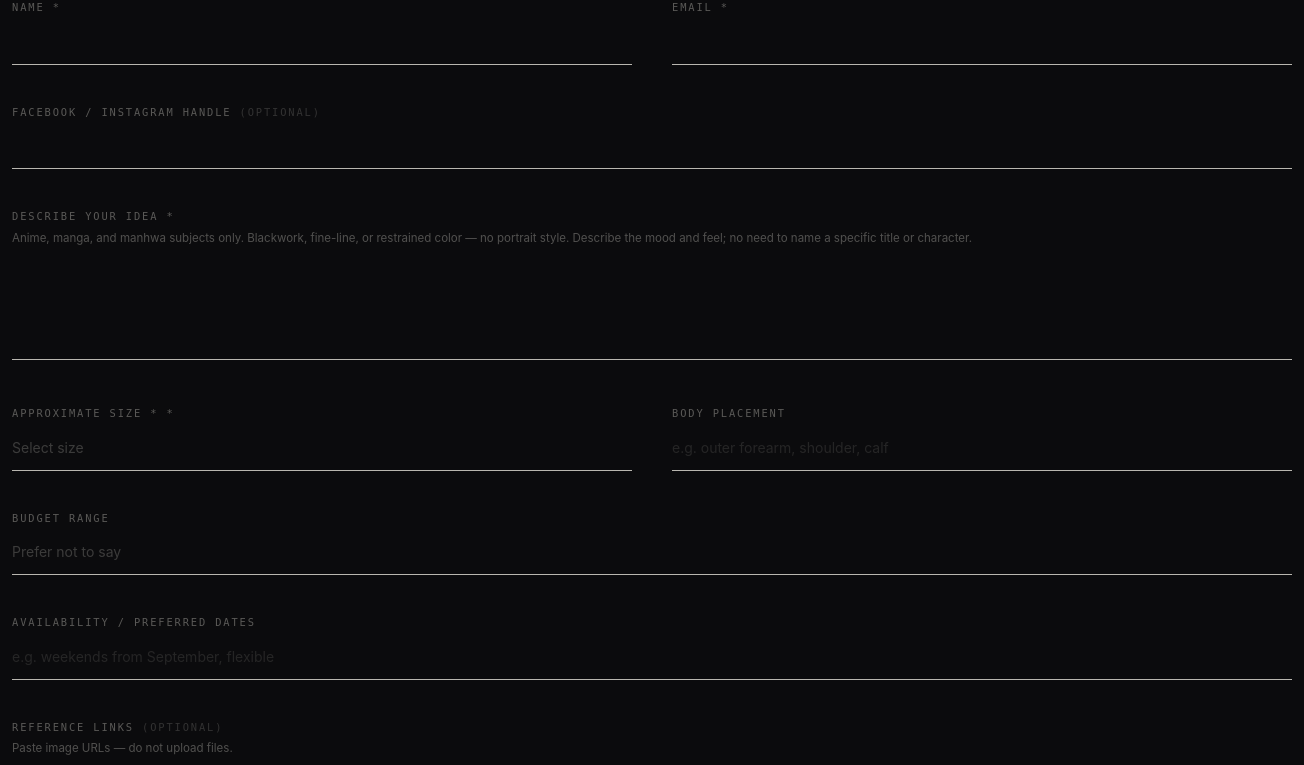
it: CommissionForm › opens the size dropdown when the combobox button is clicked
The width and height of the screenshot is (1304, 765).
Step 1. Click the dropdown labelled "Select size" → (48, 447), box left=12, top=426, right=632, bottom=471
(page scrolled)
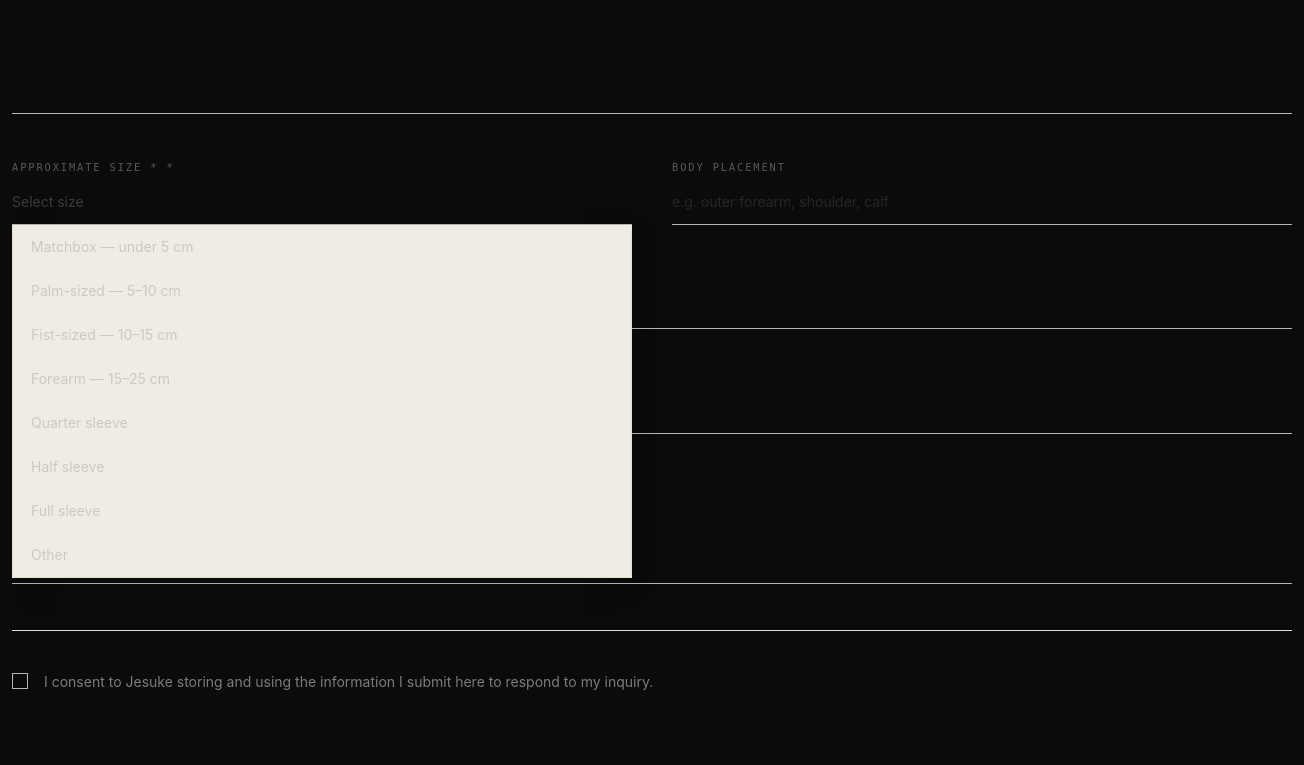
expect the list is shown: met, box left=12, top=225, right=632, bottom=578
